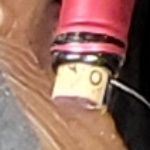bottle: (37, 23, 133, 123)
